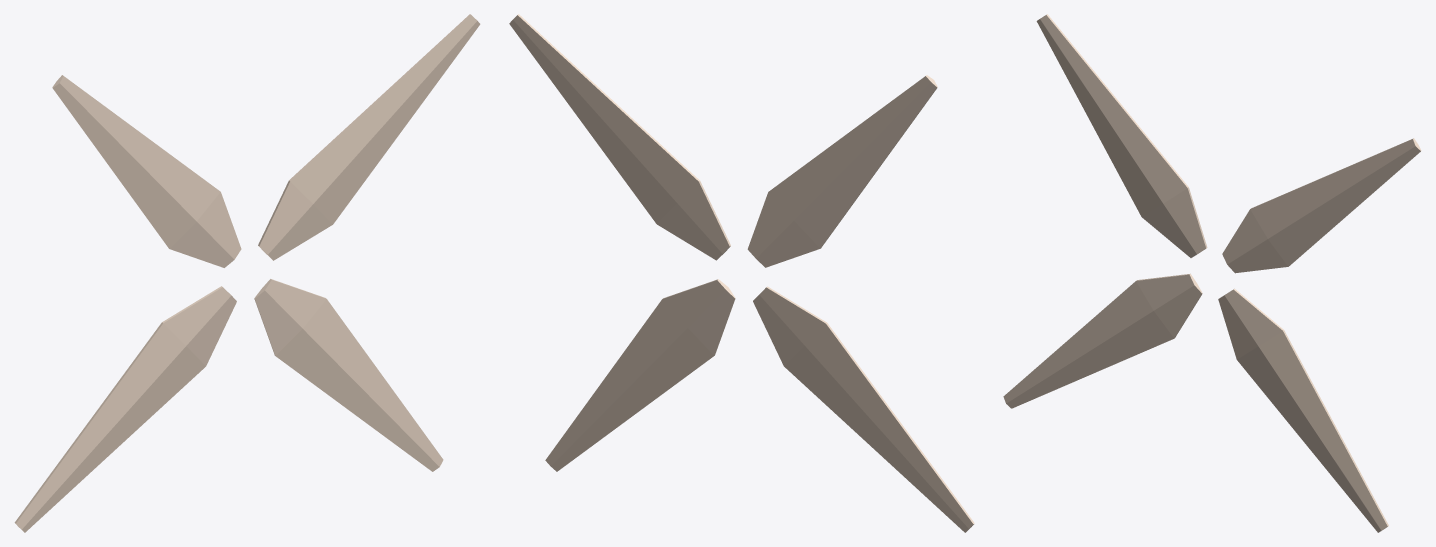
Rendered from wind_turbine_fan.FBX.
3 views of the same model, side by side, from view 1: azimuth 30°, elevation 25°; view 2: azimuth 150°, elevation 25°; view 3: azimuth 330°, elevation 25° (orthographic). The views are drawn at different scales.
Parts seen in each view (by area): view 1: wind_turbine_fan; view 2: wind_turbine_fan; view 3: wind_turbine_fan.
Part boxes in pixels (x1,y1,x2,y2): wind_turbine_fan: (14,14,480,532); wind_turbine_fan: (509,14,974,532); wind_turbine_fan: (1003,14,1421,532).
Bounding box in the file's own units: 78.29 × 78.29 × 0.8584.
